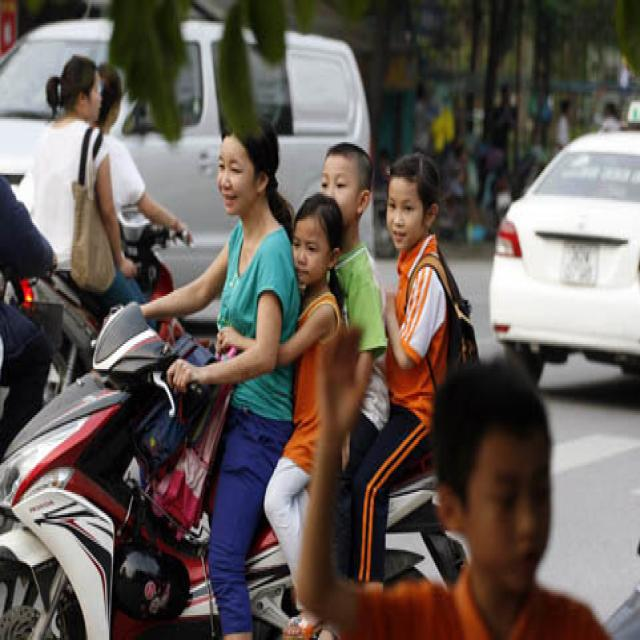no_helmet: (381, 145, 444, 261), (285, 189, 348, 300)
